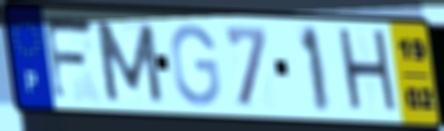1: (296, 23, 334, 115)
7: (223, 22, 271, 111)
F: (41, 14, 99, 105)
G: (168, 21, 223, 109)
H: (334, 26, 402, 119)
M: (91, 18, 167, 105)
